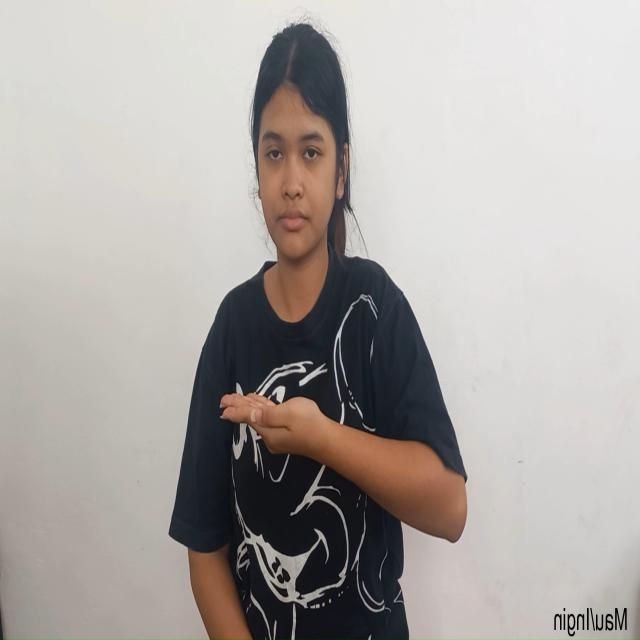Mau-Ingin -BISINDO-: (218, 390, 468, 545)
